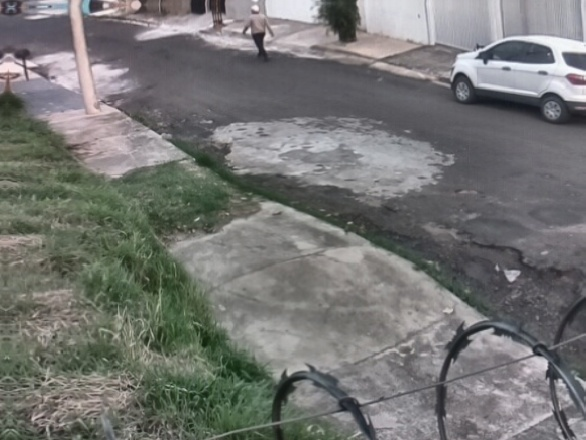person: (242, 0, 276, 63)
